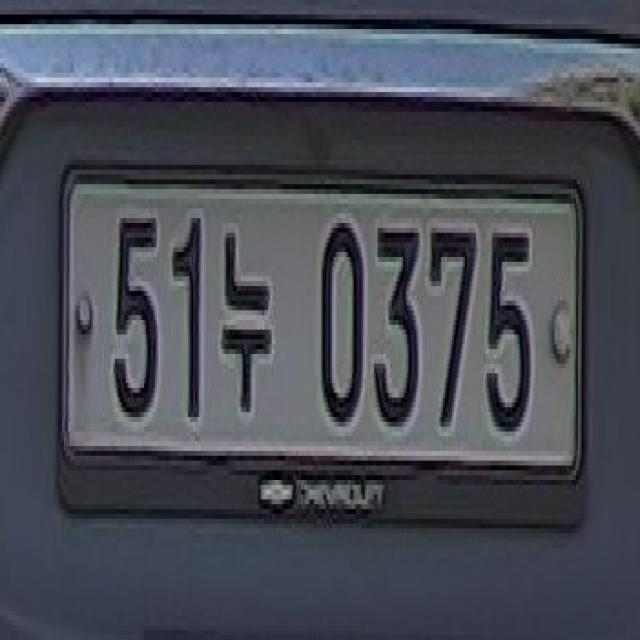0: (318, 211, 366, 443)
1: (172, 212, 202, 442)
3: (373, 206, 422, 439)
5: (483, 214, 538, 448), (113, 210, 161, 438)
7: (425, 211, 478, 446)
license_plate: (41, 164, 592, 534)
nu: (220, 219, 278, 429)
